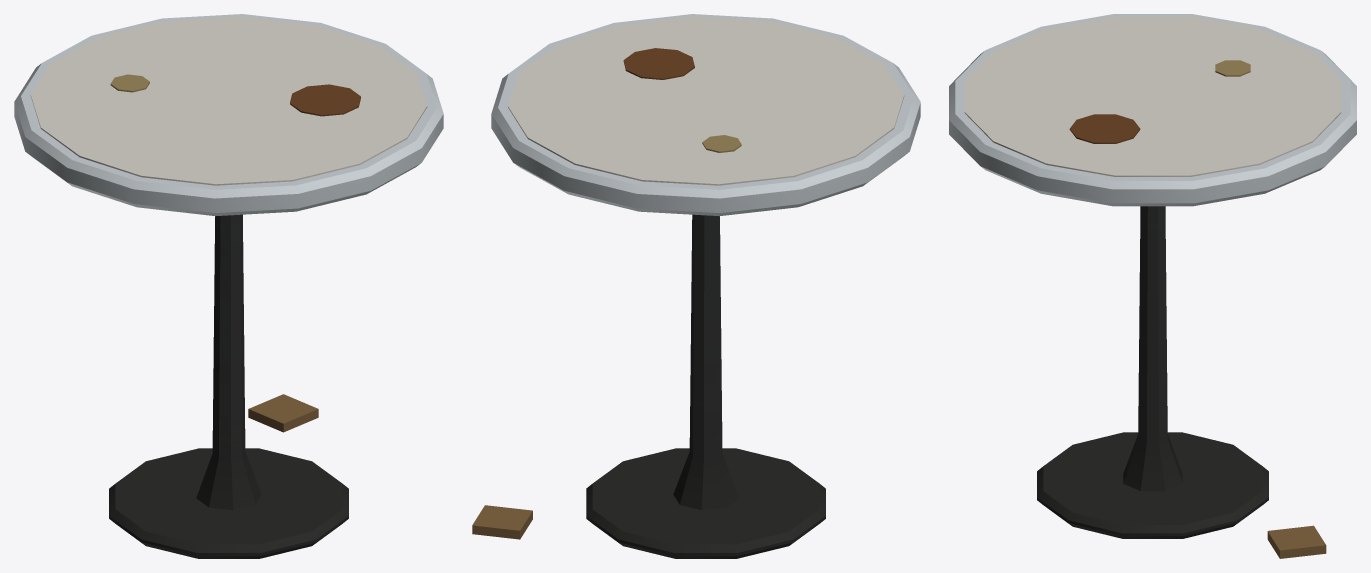
The model's file is 54_table_bistrot.fbx.
3 views of the same model, side by side, from view 1: azimuth 30°, elevation 25°; view 2: azimuth 150°, elevation 25°; view 3: azimuth 270°, elevation 25° (orthographic). The views are drawn at different scales.
Visible parts, largest first — view 1: Table; view 2: Table; view 3: Table.
Boxes of the visible parts, x1,y1,x2,y2 form: Table: (14, 14, 443, 558); Table: (472, 14, 920, 558); Table: (949, 14, 1356, 558).
Size of the model in its own units: 0.728 by 0.784 by 0.728.
Materials: 1 (1 with a texture image).
